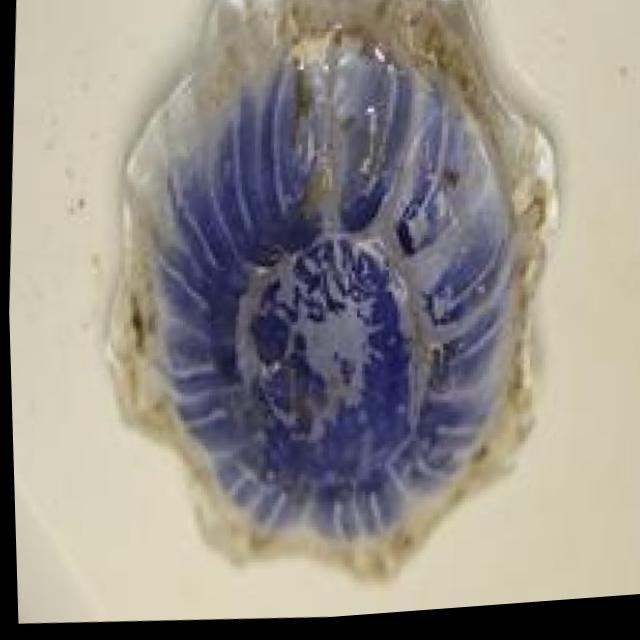Jellyfish: (78, 0, 580, 618)
